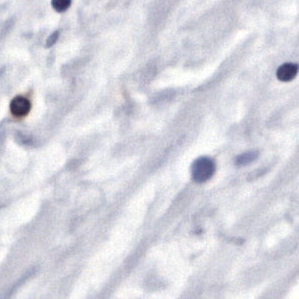Lymphocyte: (8, 92, 35, 120)
